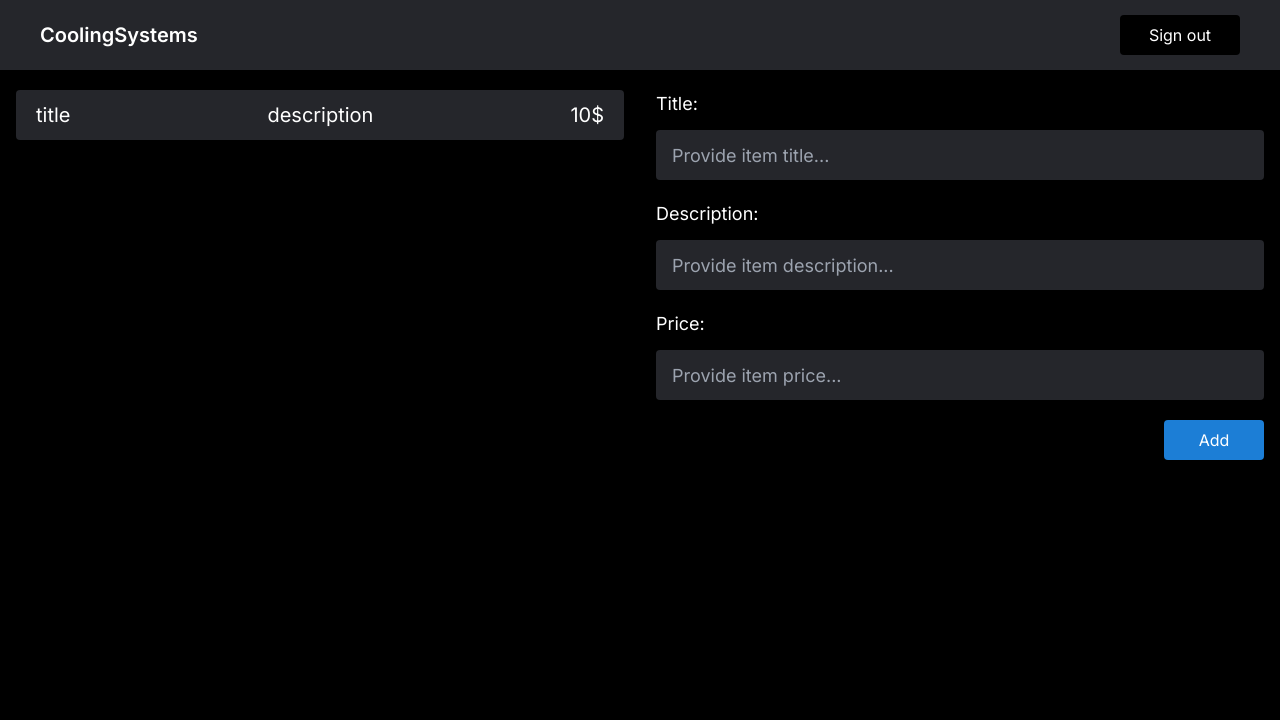
App... › error messages should display if nothing is typed
Click the button "Add" at x=1214, y=440, box [1164,420,1264,460]
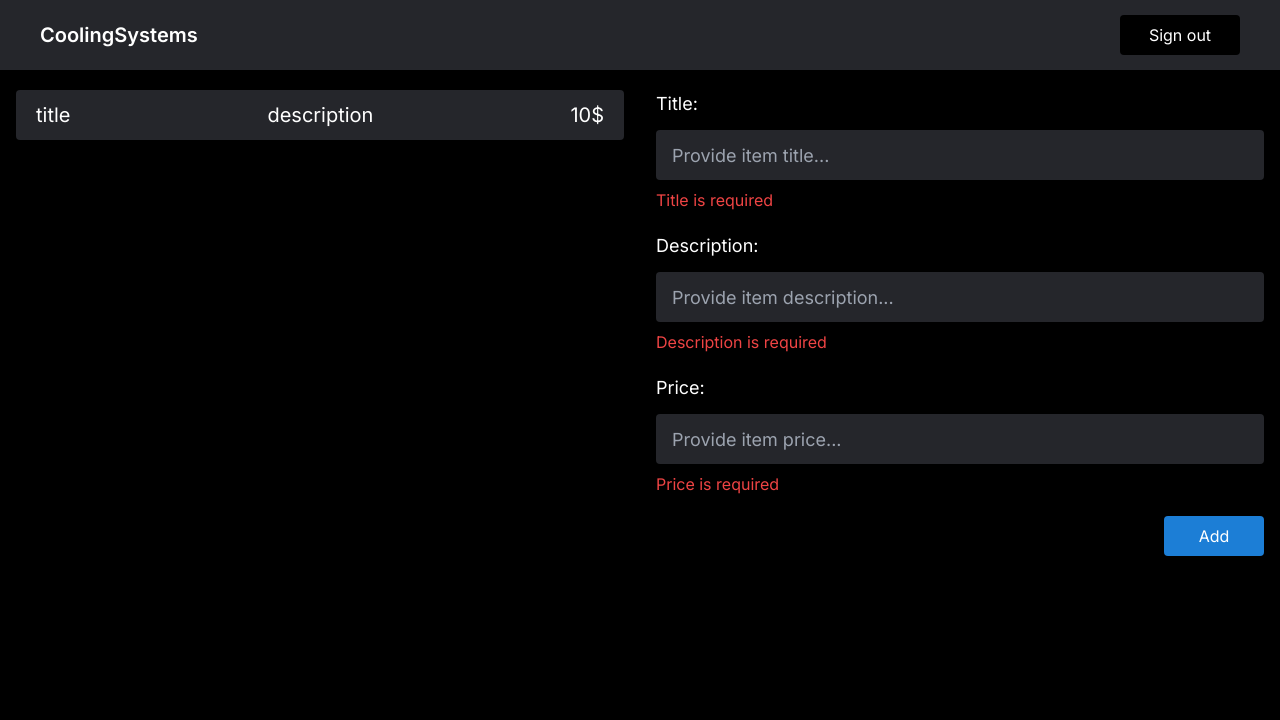
Now the text "Title is required" is shown, box [656,190,773,210]
Now the text "Description is required" is shown, box [656,332,827,352]
Now the text "Price is required" is shown, box [656,474,779,494]
